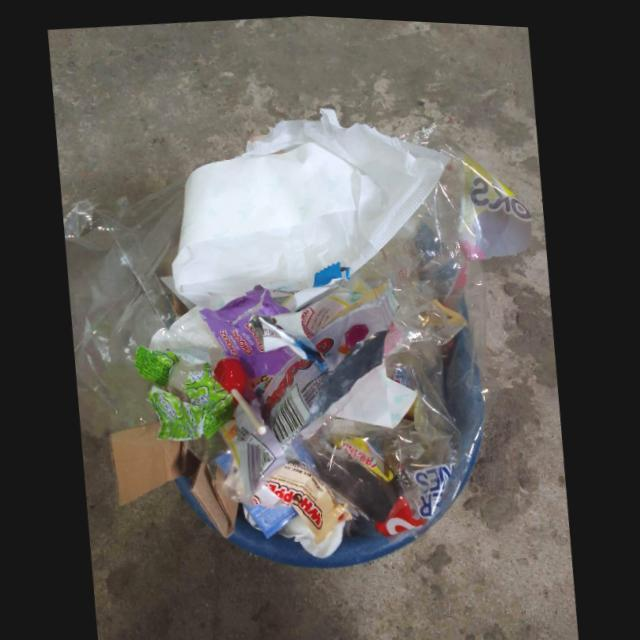paper: (172, 103, 451, 309), (112, 425, 184, 505), (192, 460, 241, 536)
plastic: (284, 116, 534, 534), (65, 174, 188, 439)
wrapper: (235, 301, 393, 490), (135, 343, 240, 439), (255, 460, 355, 540)
